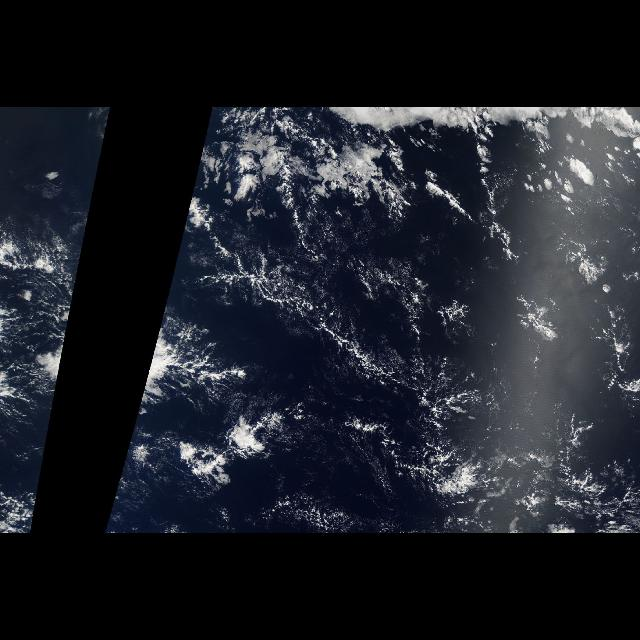Fish: (225, 248, 421, 398)
Gravel: (358, 343, 622, 527)
